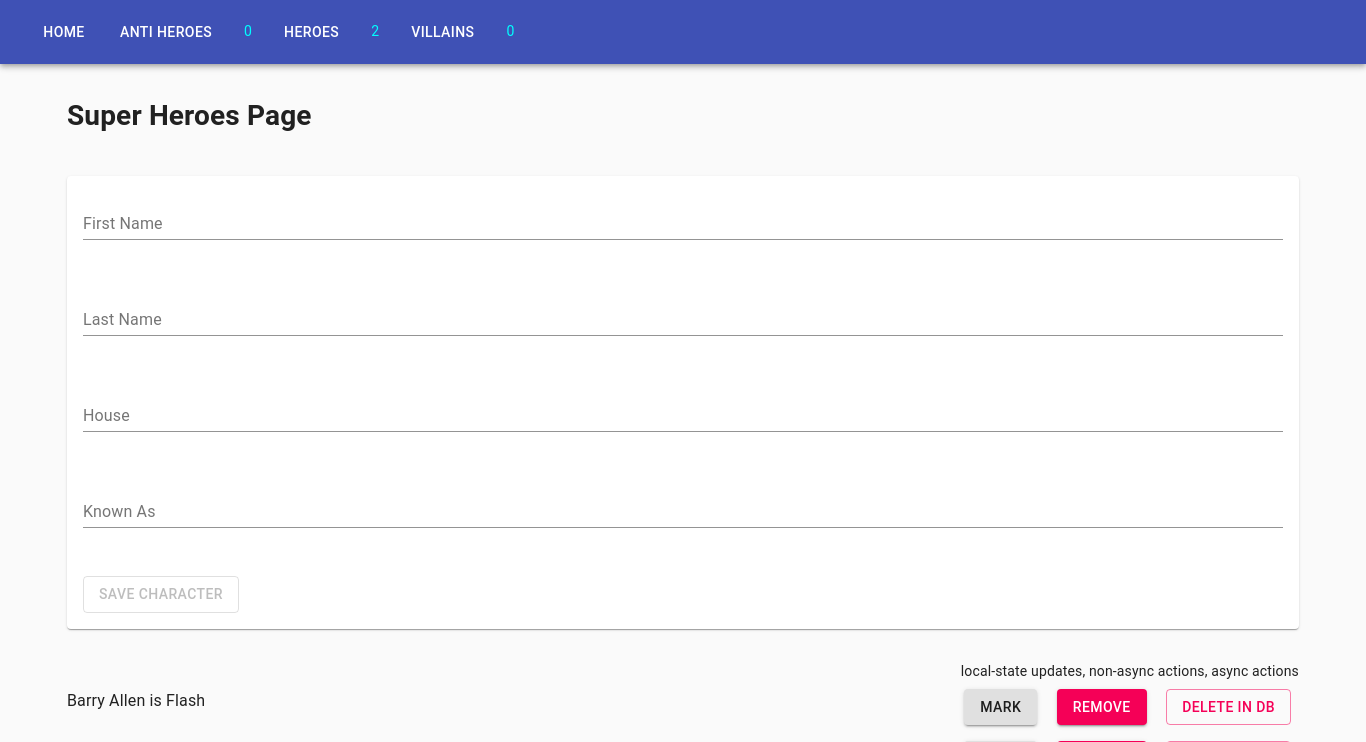
it: Heroes Page › should mark a hero
Click the button with test id "mark-button" in the row of "Barry Allen is Flash": point(1001, 707) [964, 688, 1037, 725]
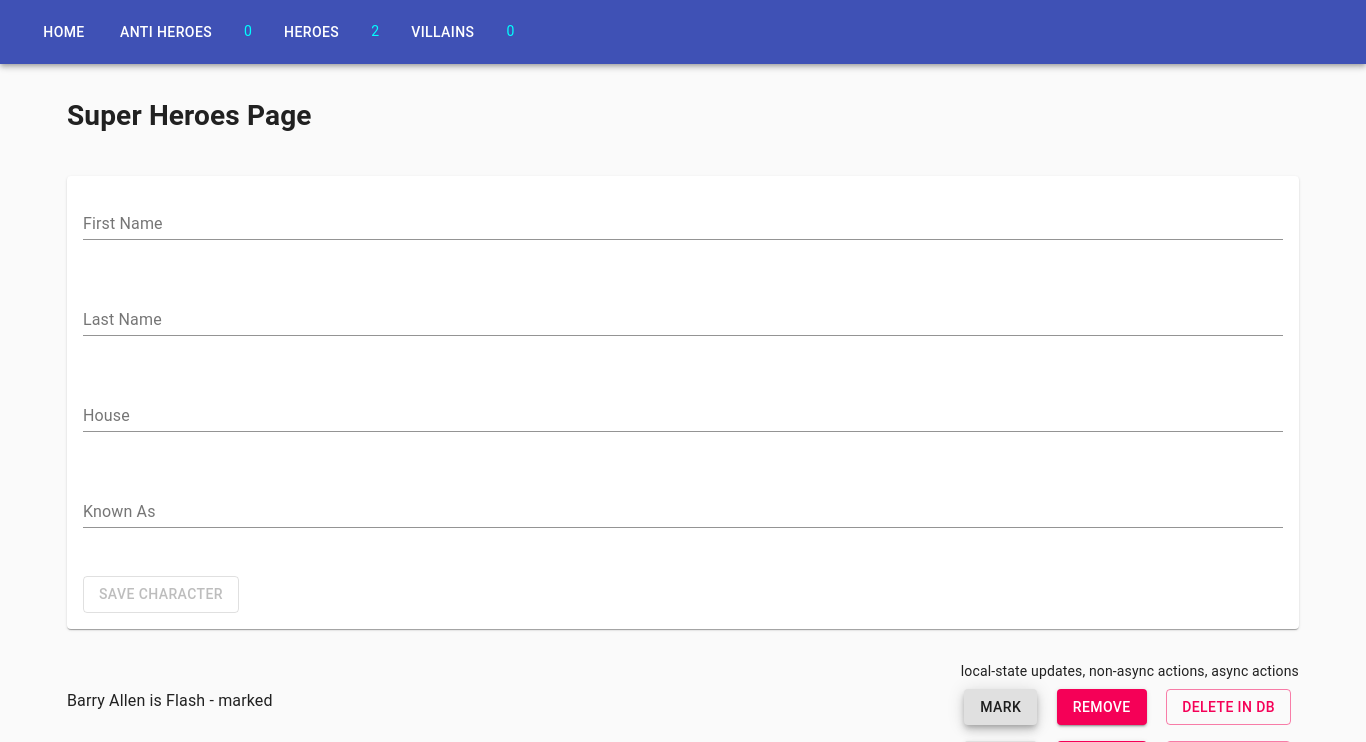
Expected: the element with test id "card" shows "marked", [205, 690, 273, 710]
